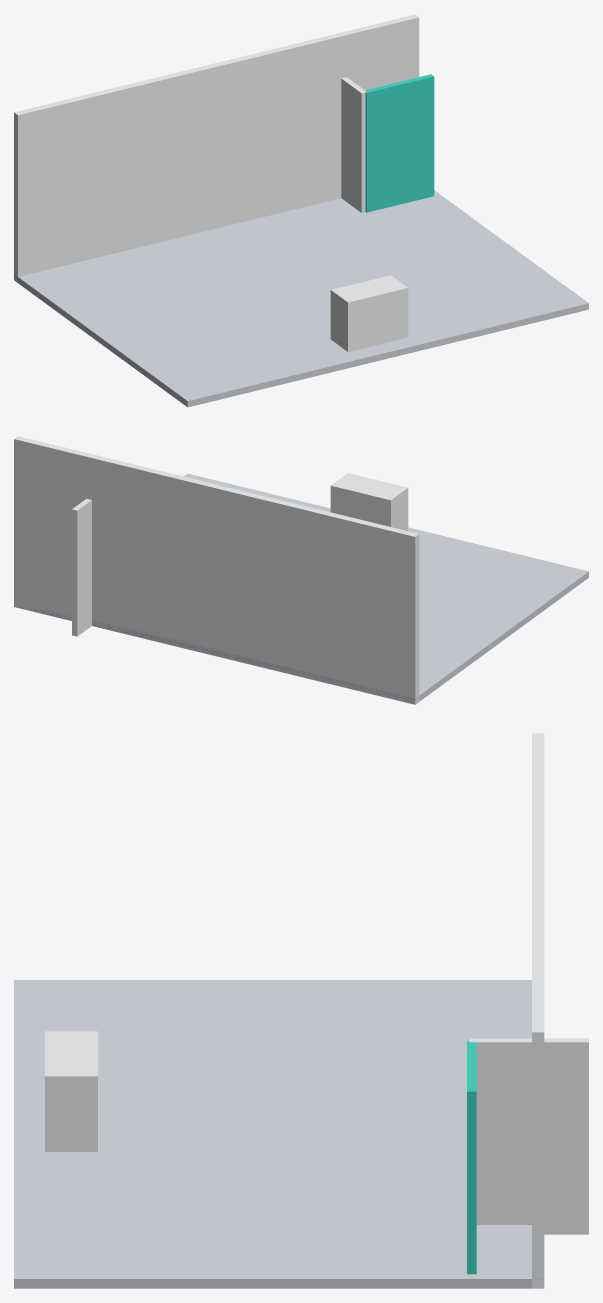
3 renders of one model, top to bottom at view 1: azimuth 30°, elevation 25°; view 2: azimuth 150°, elevation 25°; view 3: azimuth 270°, elevation 25°, orthographic. The views are drawn at different scales.
Visible parts, largest first — view 1: Exhibition Booth Concept; view 2: Exhibition Booth Concept; view 3: Exhibition Booth Concept.
Boxes of the visible parts, x1,y1,x2,y2 form: Exhibition Booth Concept: (14, 14, 588, 407); Exhibition Booth Concept: (14, 436, 588, 704); Exhibition Booth Concept: (14, 733, 588, 1288).
Bounding box in the file's own units: 8 × 3.2 × 6.51.
